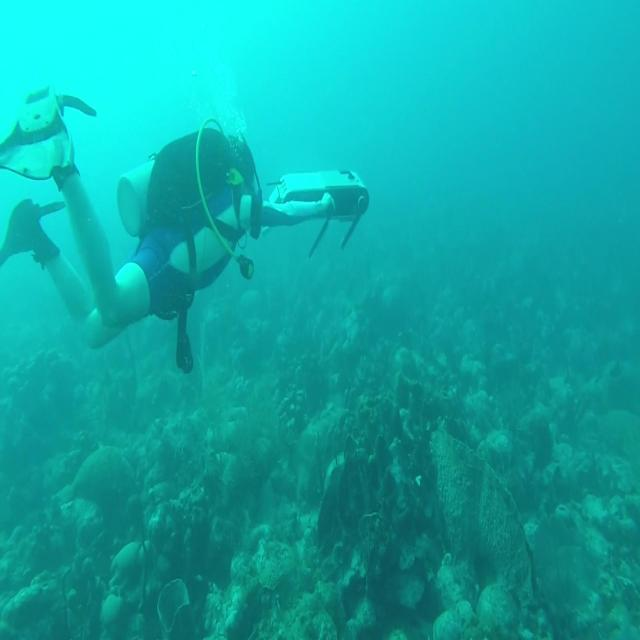human: (1, 86, 264, 374)
